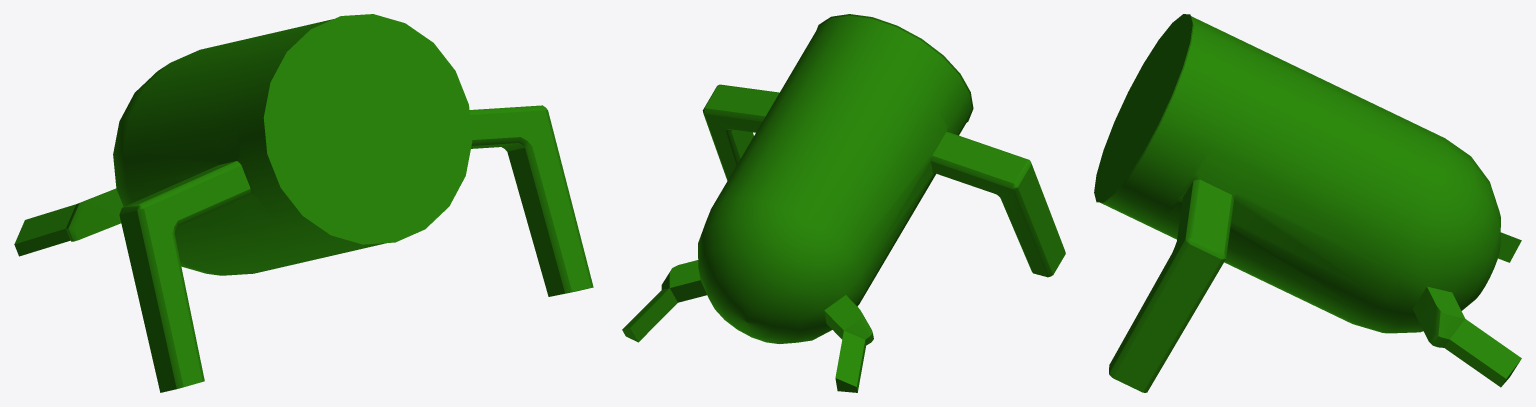
Rendered from ZombieBodyMesh.fbx.
3 views of the same model, side by side, from view 1: azimuth 30°, elevation 25°; view 2: azimuth 150°, elevation 25°; view 3: azimuth 270°, elevation 25° (orthographic). The views are drawn at different scales.
Parts seen in each view (by area): view 1: pSphere4; view 2: pSphere4; view 3: pSphere4.
Boxes of the visible parts, <box> form: pSphere4: <box>14,14,593,392</box>; pSphere4: <box>622,14,1065,392</box>; pSphere4: <box>1094,14,1521,392</box>.
Bounding box in the file's own units: 167 × 127 × 164.
